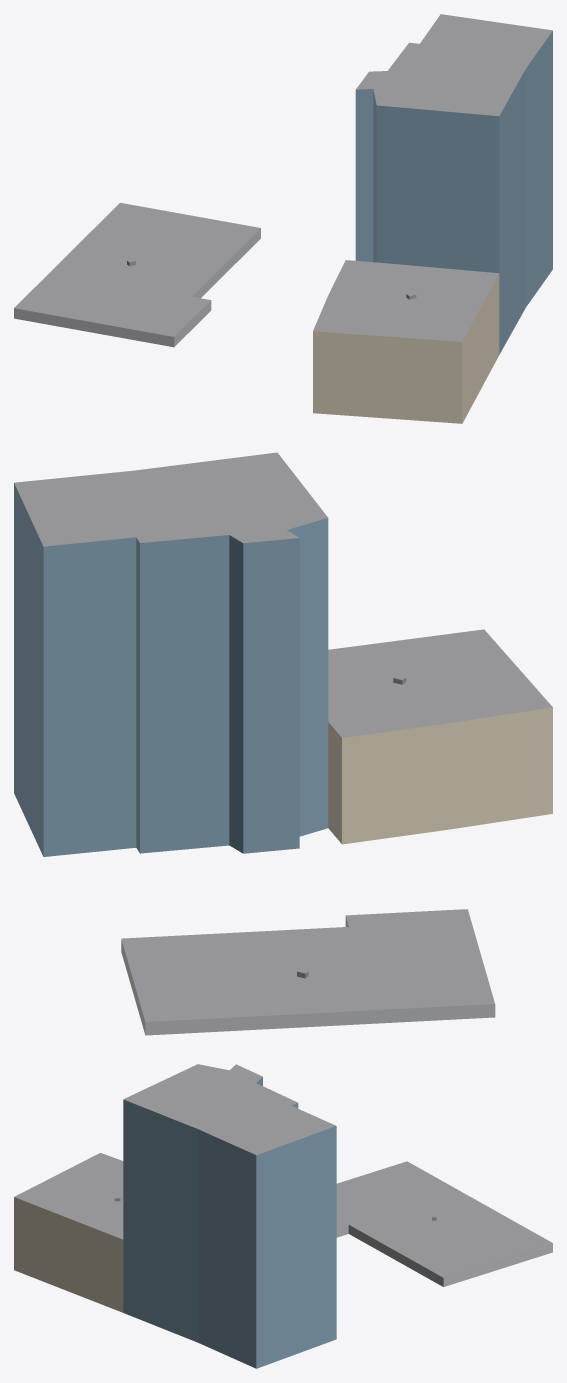
The model's file is building_4_3.glb.
The picture shows the model from 3 angles, top to bottom: view 1: azimuth 30°, elevation 25°; view 2: azimuth 150°, elevation 25°; view 3: azimuth 270°, elevation 25°; orthographic projection. The views are drawn at different scales.
Visible parts, largest first — view 1: roof, glass_blue, sandstone, industrial; view 2: glass_blue, roof, sandstone, industrial; view 3: glass_blue, roof, sandstone, industrial.
Part boxes in pixels (x1,y1,x2,y2): roof: (14,14,552,341); glass_blue: (355,31,552,354); sandstone: (313,274,499,423); industrial: (14,228,260,347); glass_blue: (14,483,328,856); roof: (14,452,552,1021); sandstone: (328,707,552,844); industrial: (121,916,495,1035); glass_blue: (123,1077,336,1368); roof: (14,1064,552,1277); sandstone: (14,1197,123,1312); industrial: (336,1224,552,1286).
Bounding box in the file's own units: 147 × 73.6 × 168.
